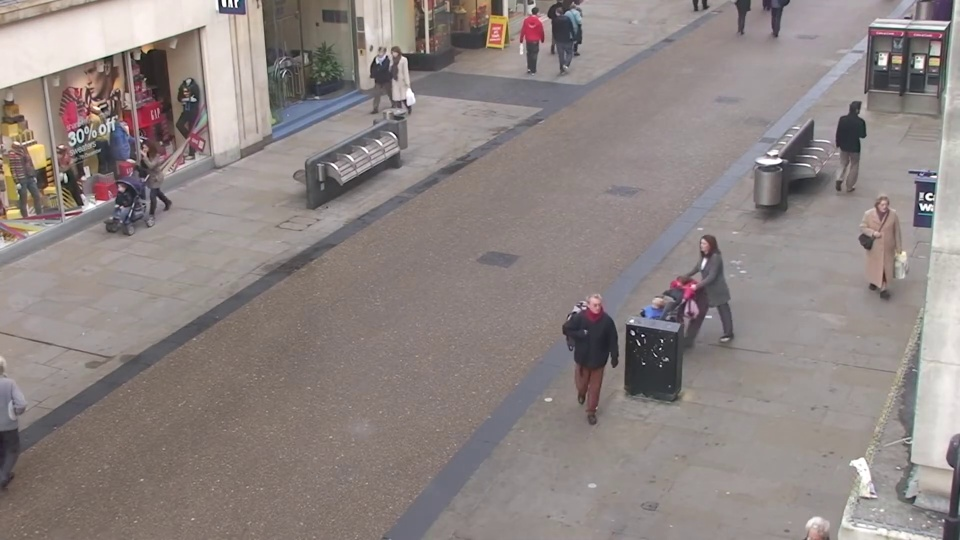pedestrian: (618, 288, 665, 429), (572, 293, 618, 436), (859, 194, 907, 312), (668, 229, 711, 355), (96, 177, 144, 286), (123, 137, 166, 236), (835, 95, 873, 187), (380, 47, 408, 122), (363, 43, 391, 117), (524, 4, 547, 69), (552, 3, 574, 68), (563, 0, 585, 64)
